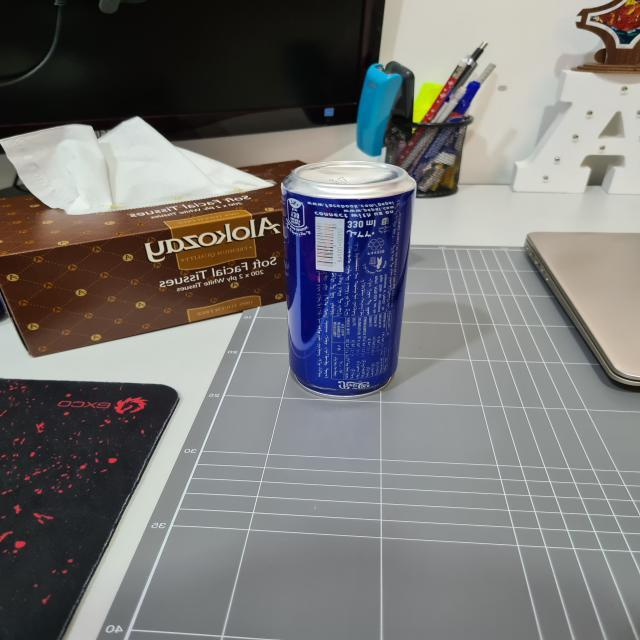can: (278, 159, 422, 405)
